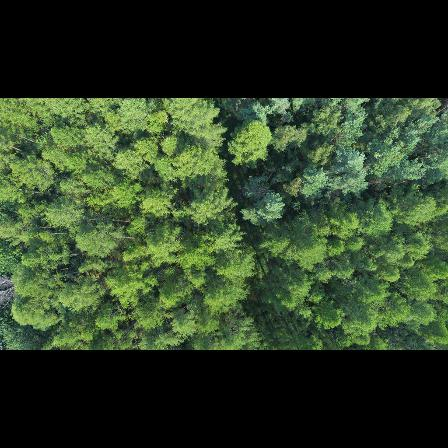Dead: (0, 276, 16, 305)
